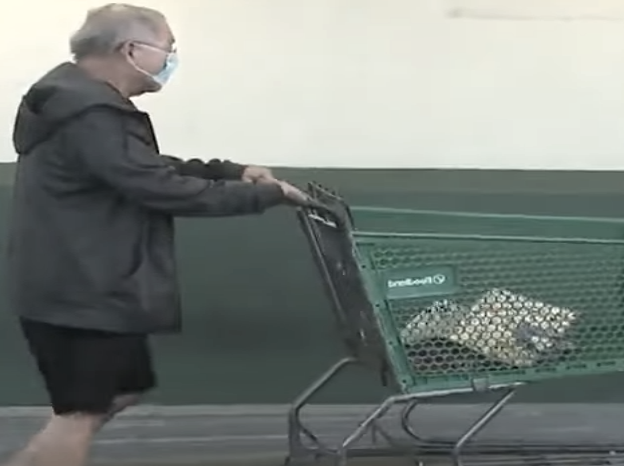mask_weared_incorrect: (111, 3, 184, 95)
